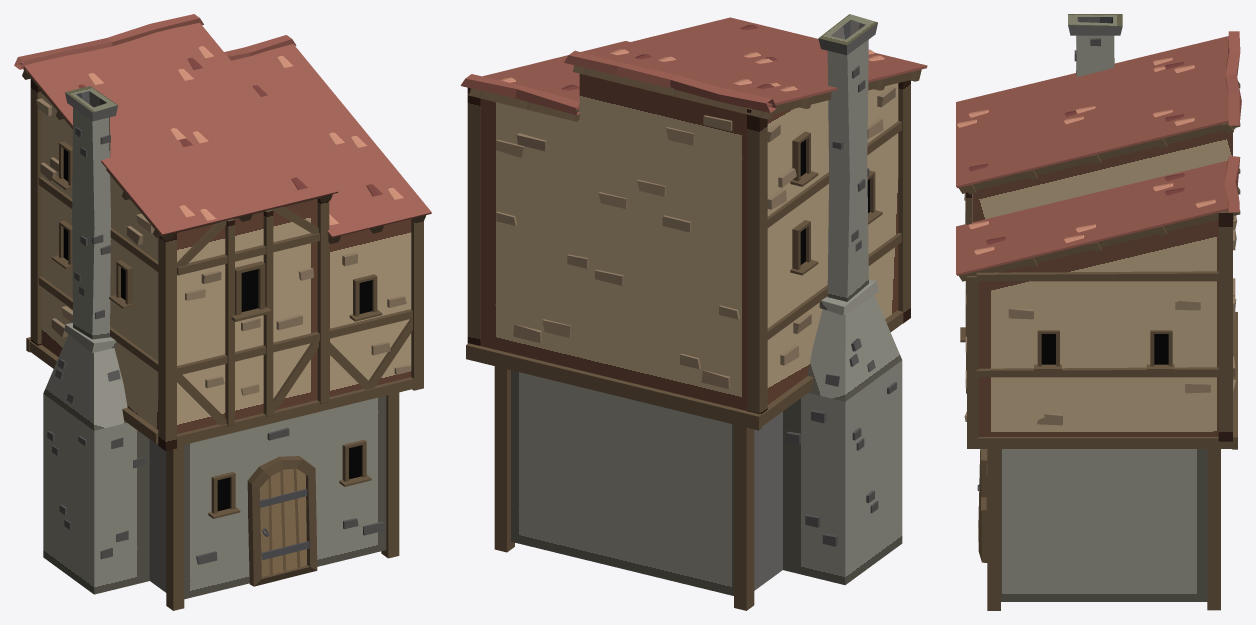
Rendered from TwP_bld_medium_House_01.fbx.
3 renders of one model, left to right at view 1: azimuth 30°, elevation 25°; view 2: azimuth 150°, elevation 25°; view 3: azimuth 270°, elevation 25°, orthographic. The views are drawn at different scales.
Parts seen in each view (by area): view 1: TwP_bld_medium_House_01, TwP_prop_Door_014; view 2: TwP_bld_medium_House_01; view 3: TwP_bld_medium_House_01, TwP_prop_Door_014.
Boxes of the visible parts, box(x1,y1,x2,y2) form: TwP_bld_medium_House_01: box(14, 14, 431, 610); TwP_prop_Door_014: box(247, 456, 317, 586); TwP_bld_medium_House_01: box(460, 14, 927, 610); TwP_bld_medium_House_01: box(956, 14, 1241, 610); TwP_prop_Door_014: box(977, 449, 987, 562).
Bounding box in the file's own units: 5.76 × 8.84 × 4.86.
Materials: 1 (1 with a texture image).
